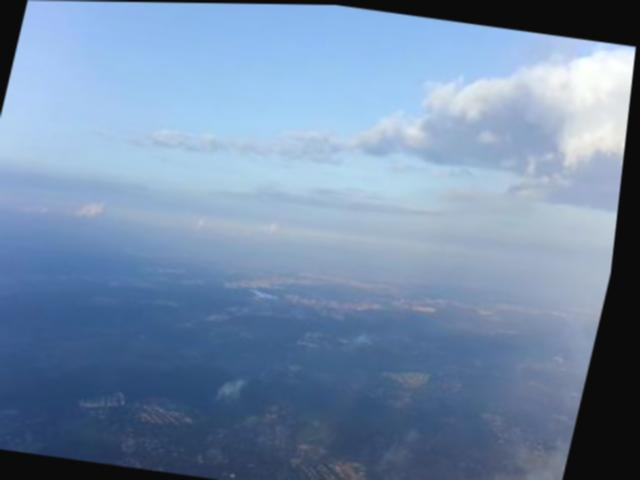uav: (252, 283, 288, 306)
